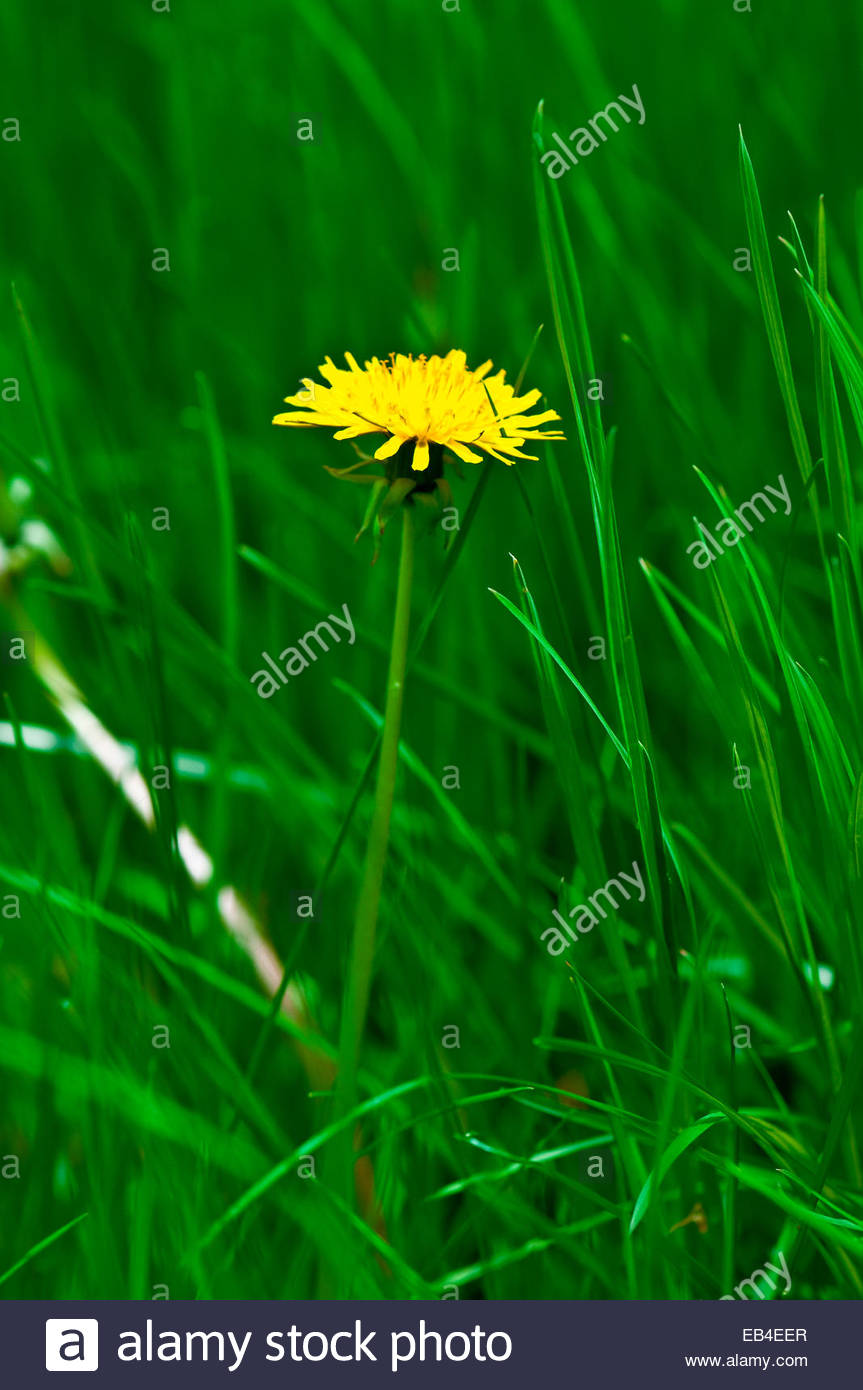dandelion: (260, 307, 554, 530)
